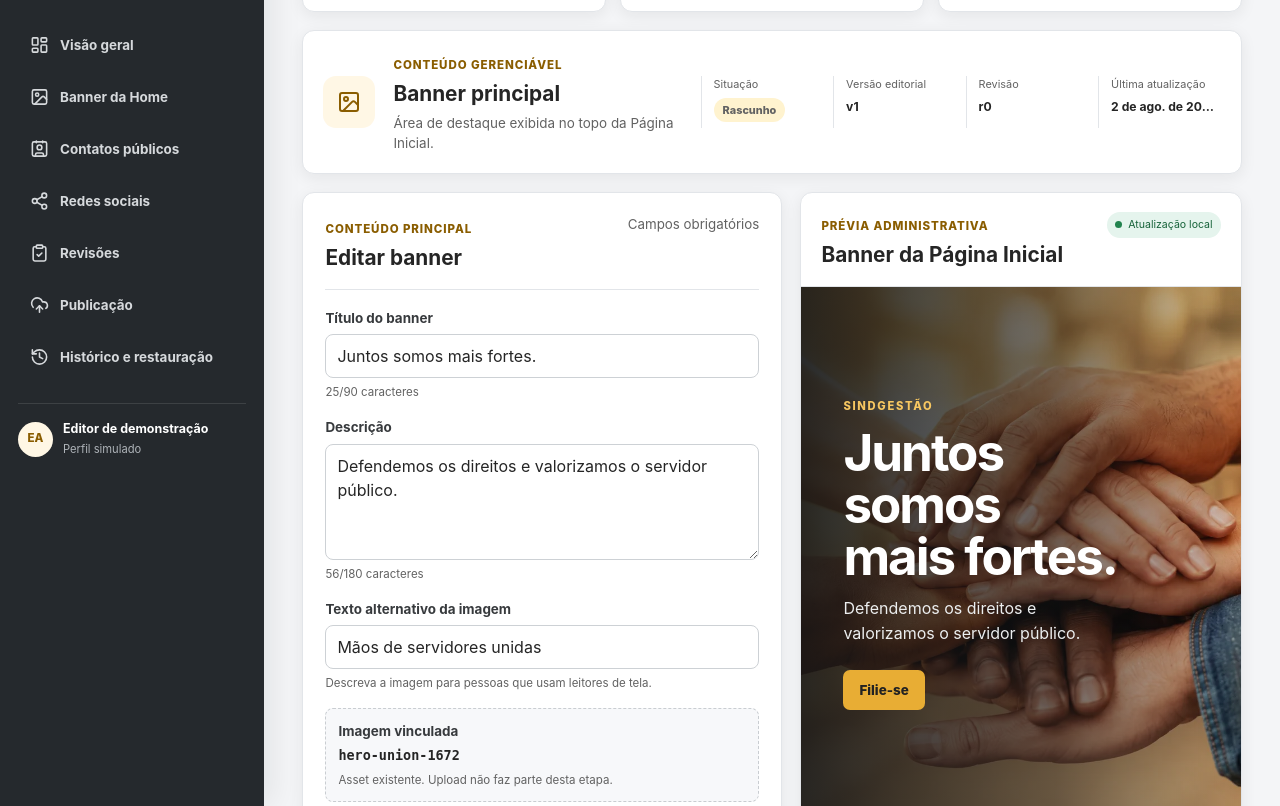
HomeManagementPage › updates the administrative preview while editing
(page scrolled)
Replace the text in the field labelled "Título do banner 25/90 caracteres" with "Servidor público em primeiro lugar": {"x": 542, "y": 356} [325, 334, 759, 378]
(page scrolled)
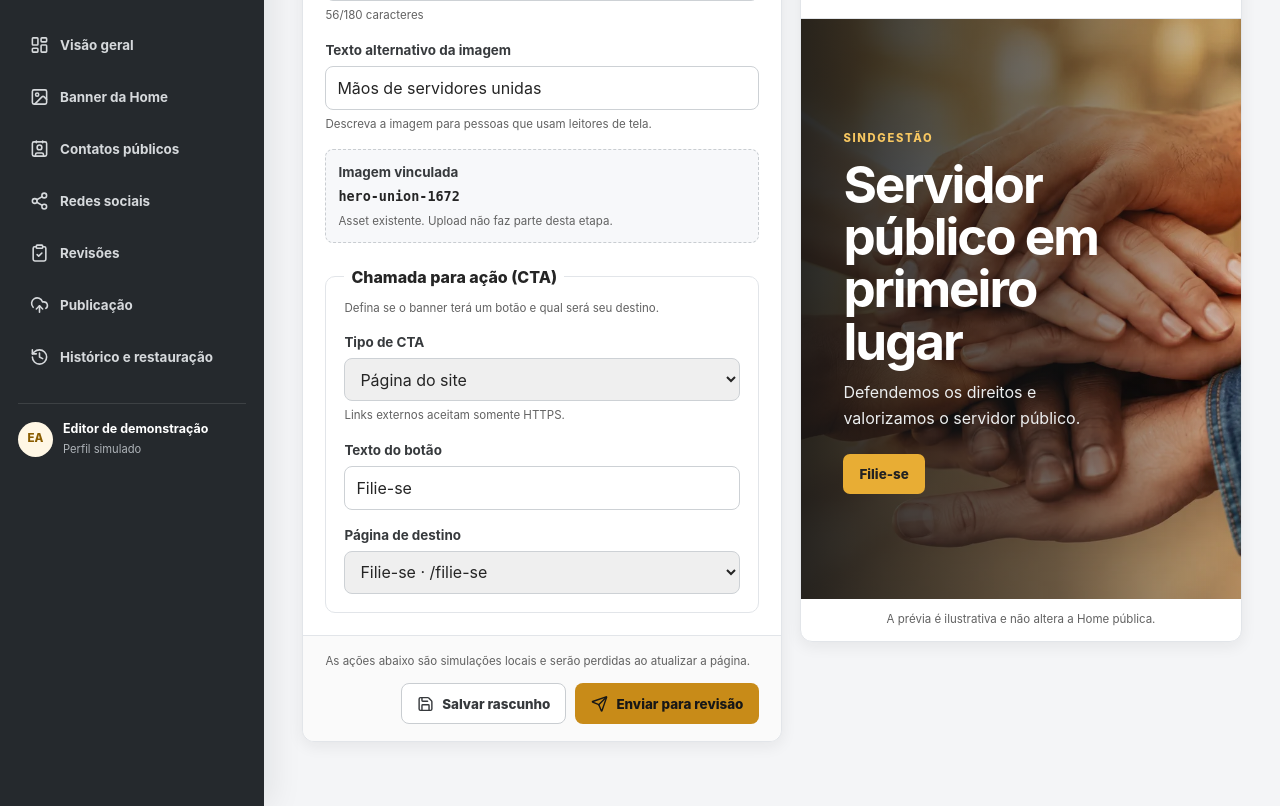
Expected: the button "Salvar rascunho" is enabled, [401, 683, 566, 724]
Expected: the heading "Servidor público em primeiro lugar" is shown, [843, 158, 1120, 367]
